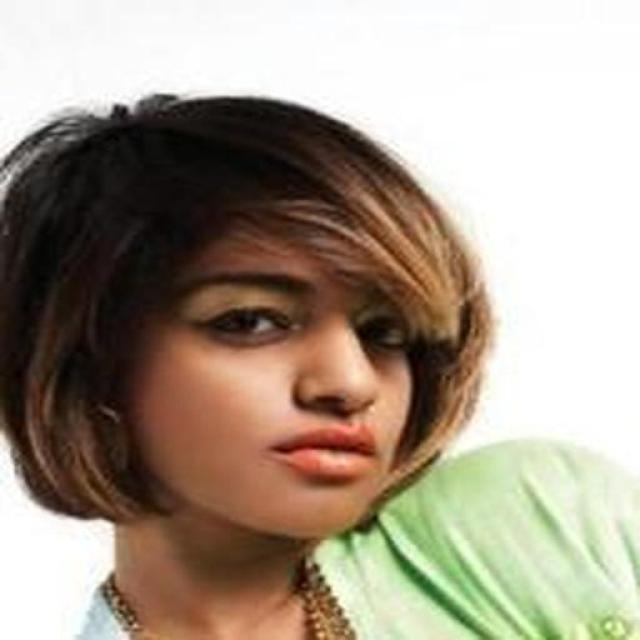bareface: (98, 148, 467, 562)
